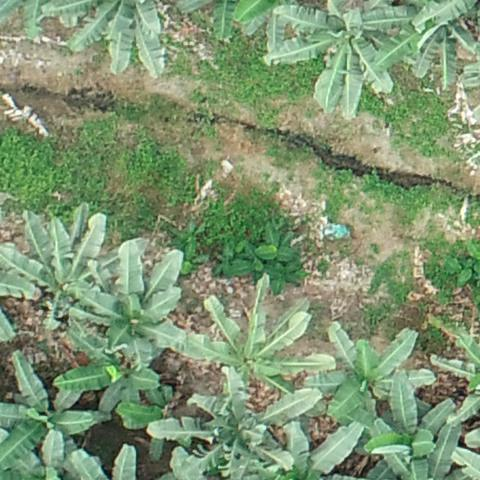Banana-plant: (185, 278, 340, 396), (74, 239, 203, 369), (160, 368, 322, 471), (5, 201, 119, 337), (274, 6, 409, 111), (0, 349, 107, 476), (320, 315, 432, 426), (362, 368, 446, 480), (76, 336, 165, 416), (396, 0, 473, 85), (266, 415, 362, 480)
